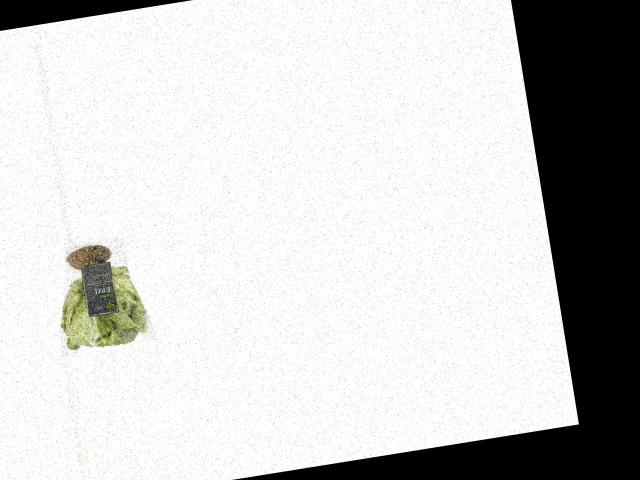lettuce: (45, 231, 155, 355)
